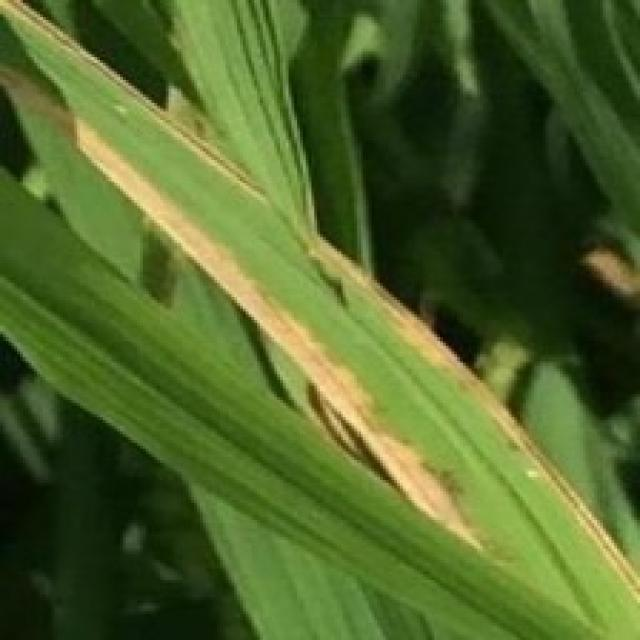Rice___Bacterial_Leaf_Blight: (0, 0, 637, 637)
